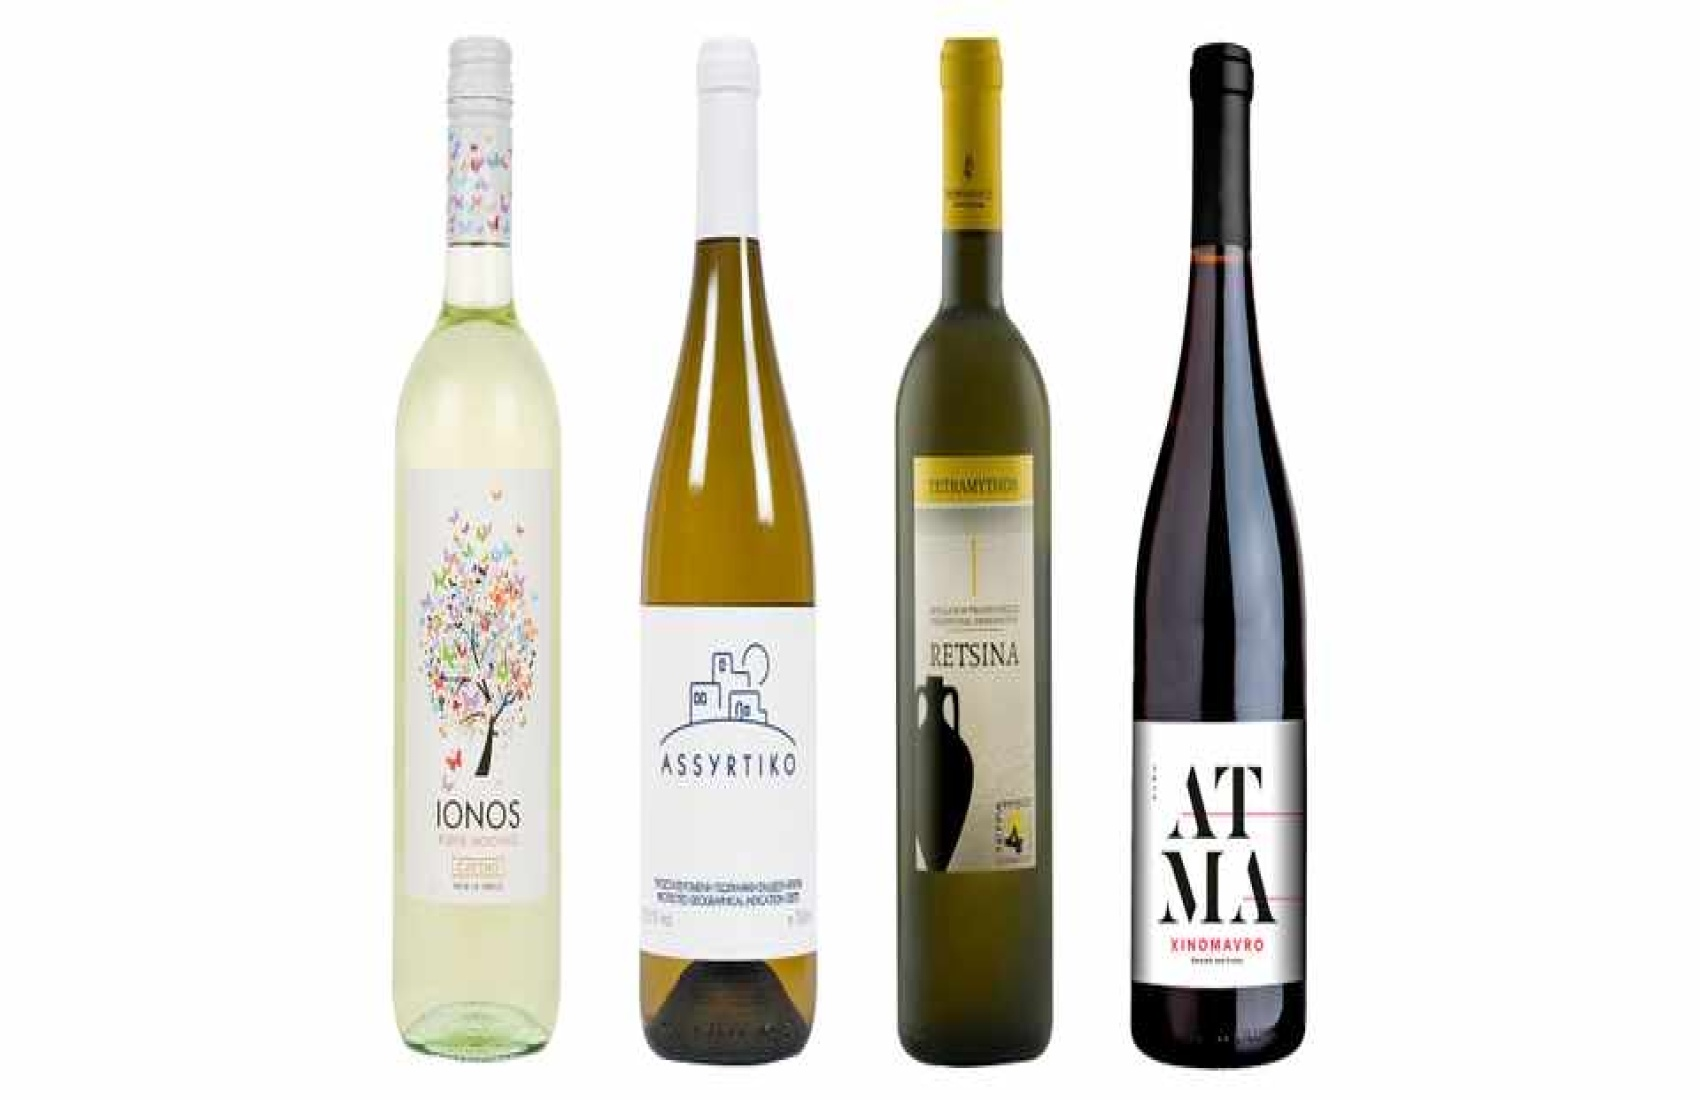wine: (392, 45, 563, 1060), (1133, 50, 1303, 1064), (897, 53, 1068, 1068), (638, 47, 809, 1062)
